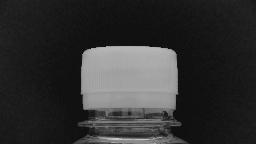Loose Cap: (75, 86, 185, 130)
